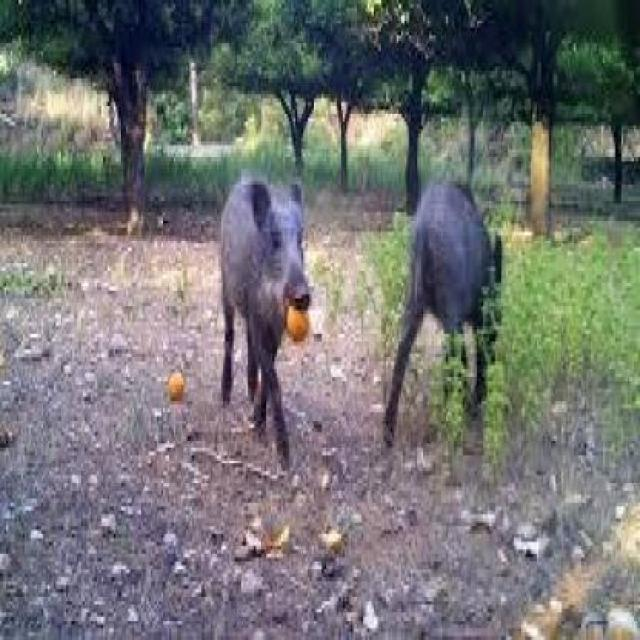wildboar: (380, 174, 512, 461), (212, 162, 318, 475)
